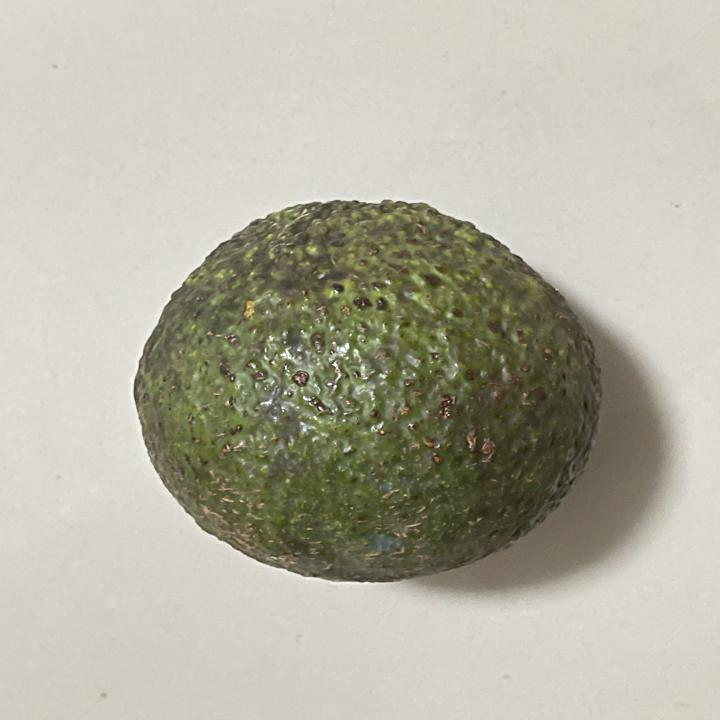Level1: (119, 189, 637, 593)
